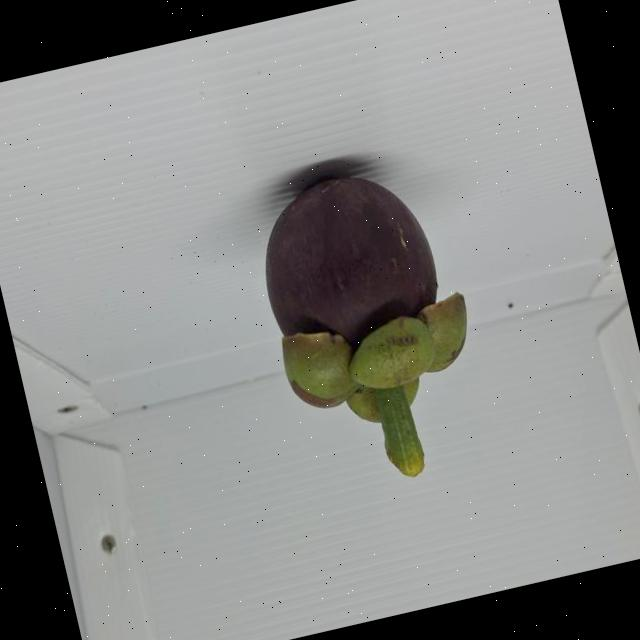mangosteen: (212, 112, 530, 508)
